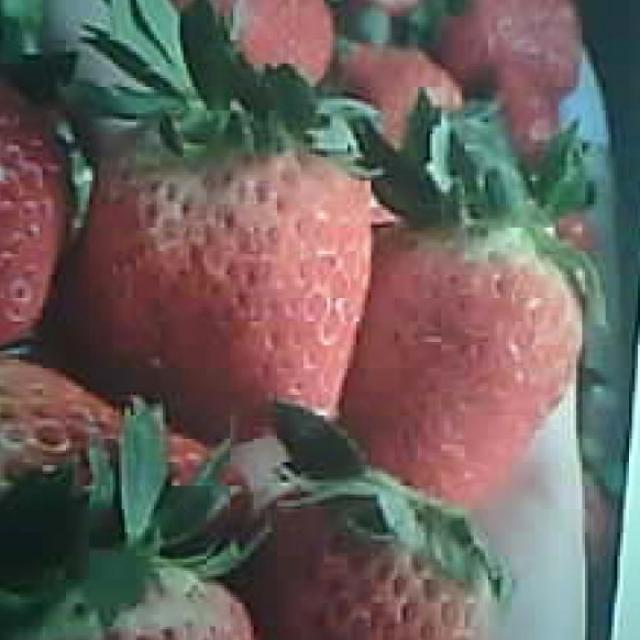Healthy Fruit: (83, 83, 392, 463), (346, 237, 610, 509)
